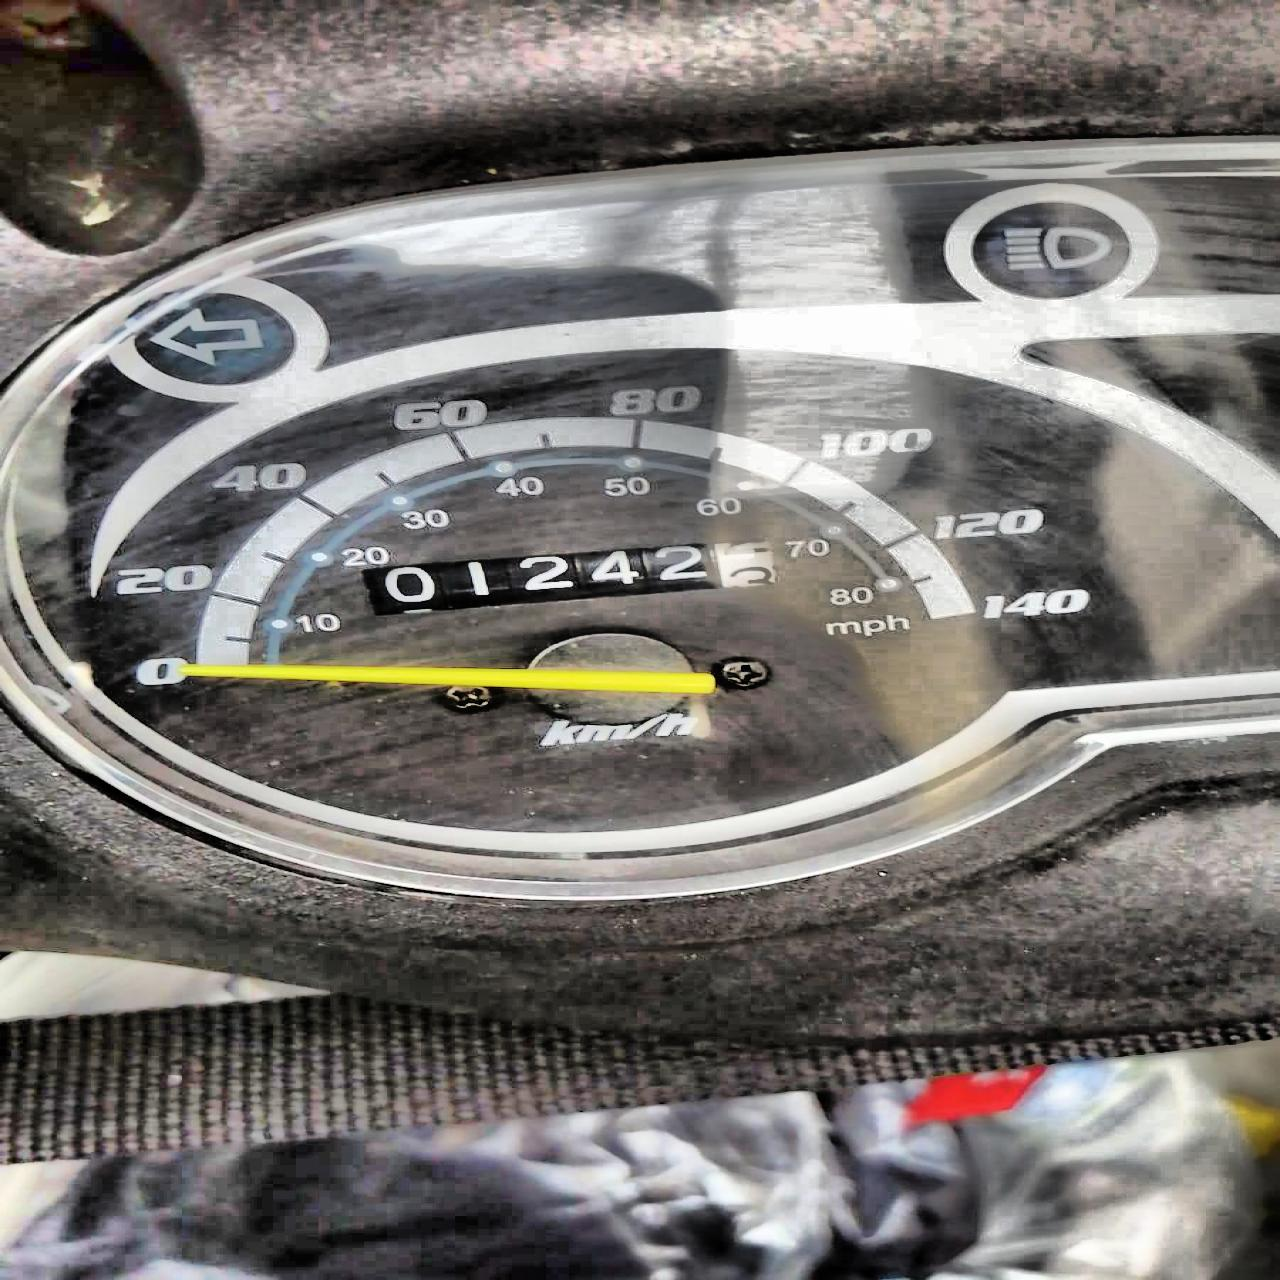0: (376, 566, 440, 604), (361, 546, 392, 565)
1: (459, 553, 495, 604)
2: (651, 538, 710, 586), (513, 551, 579, 593)
3: (727, 565, 776, 594)
4: (588, 547, 644, 586)
odometer: (359, 535, 781, 619)
